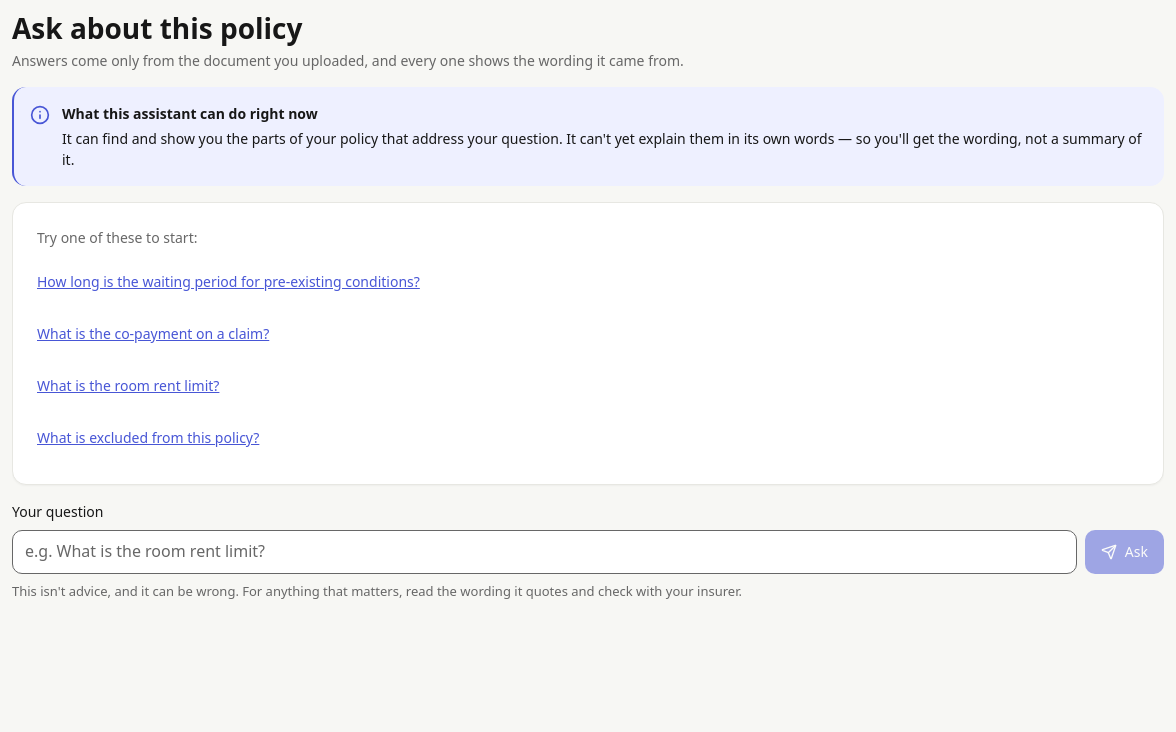
Test: AskPanel › shows a refusal as its own answer, with nothing cited
In the field labelled "Your question": (544, 552) [12, 530, 1077, 574], type "which dentist?"
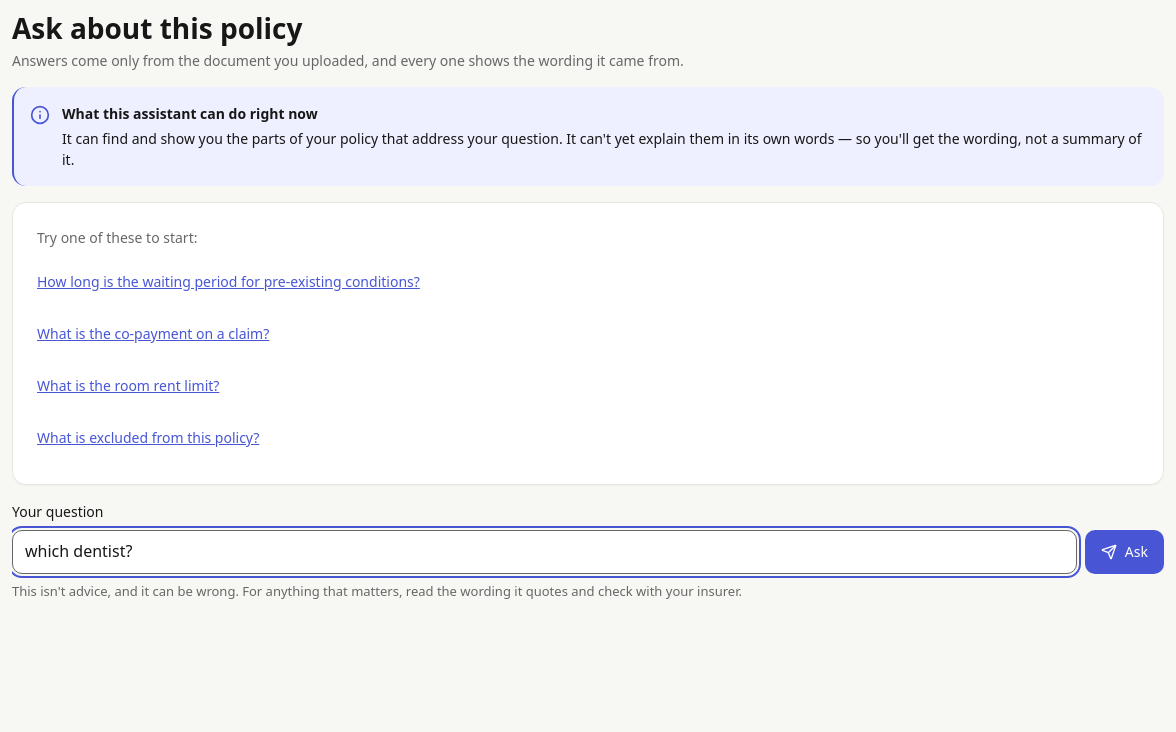
Click the button "Ask": (1124, 552) [1085, 530, 1164, 574]
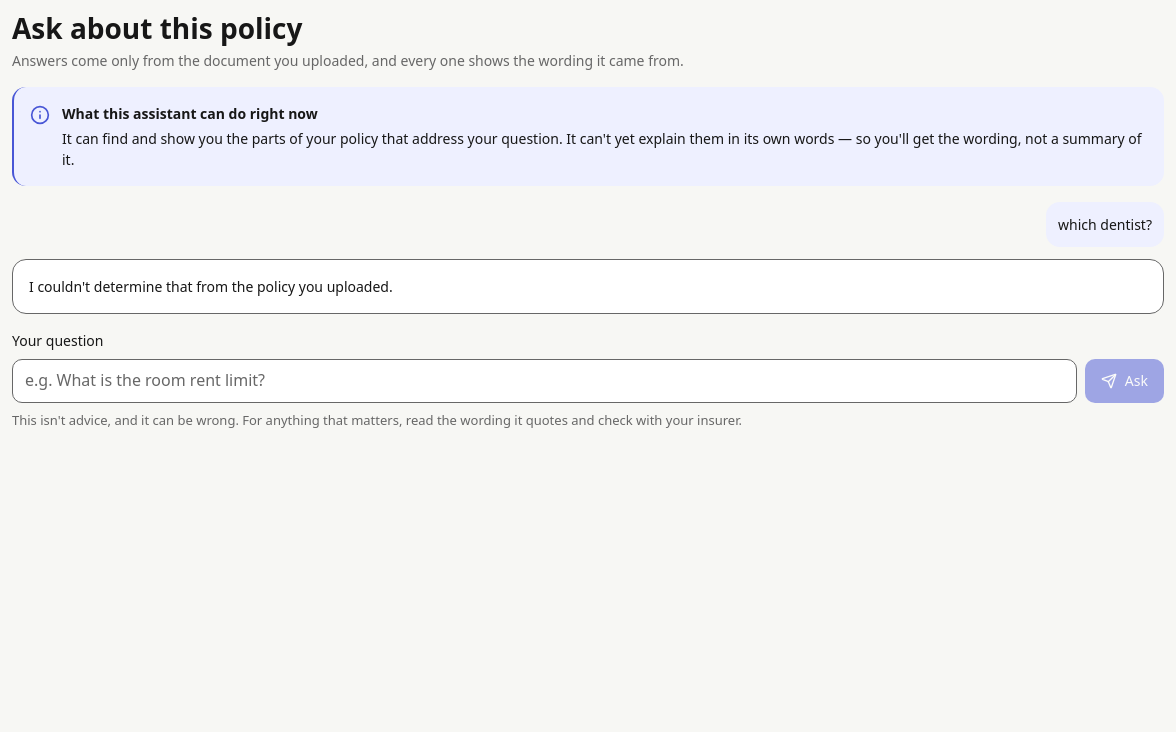
expect the text "I couldn't determine that from the policy you uploaded." is shown: met, box [29, 277, 393, 296]
